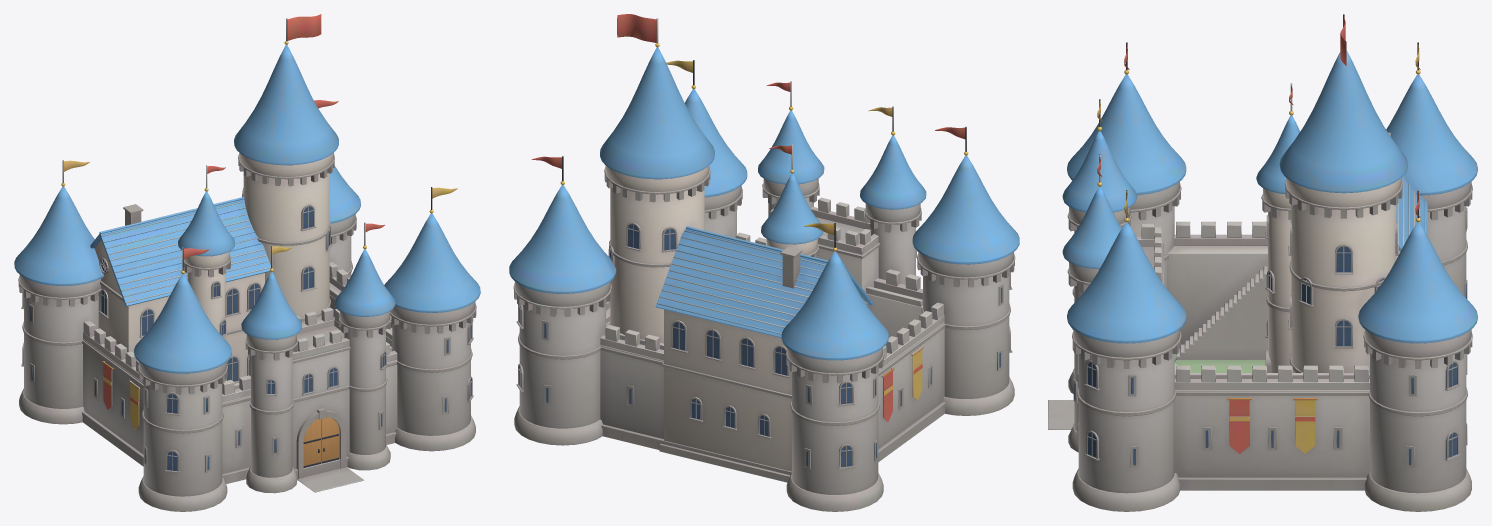
The model's file is castle.glb.
3 renders of one model, left to right at view 1: azimuth 30°, elevation 25°; view 2: azimuth 150°, elevation 25°; view 3: azimuth 270°, elevation 25°, orthographic. The views are drawn at different scales.
Visible parts, largest first — view 1: castle_body, castle_gate_leaf_right, castle_gate_leaf_left; view 2: castle_body; view 3: castle_body.
Boxes of the visible parts, x1,y1,x2,y2 form: castle_body: [14, 14, 480, 511]; castle_gate_leaf_right: [321, 417, 339, 463]; castle_gate_leaf_left: [303, 419, 320, 467]; castle_body: [509, 14, 1019, 511]; castle_body: [1048, 14, 1477, 511].
Size of the model in its own units: 32.2 by 33.45 by 29.5.
Materials: 5 (1 with a texture image).
